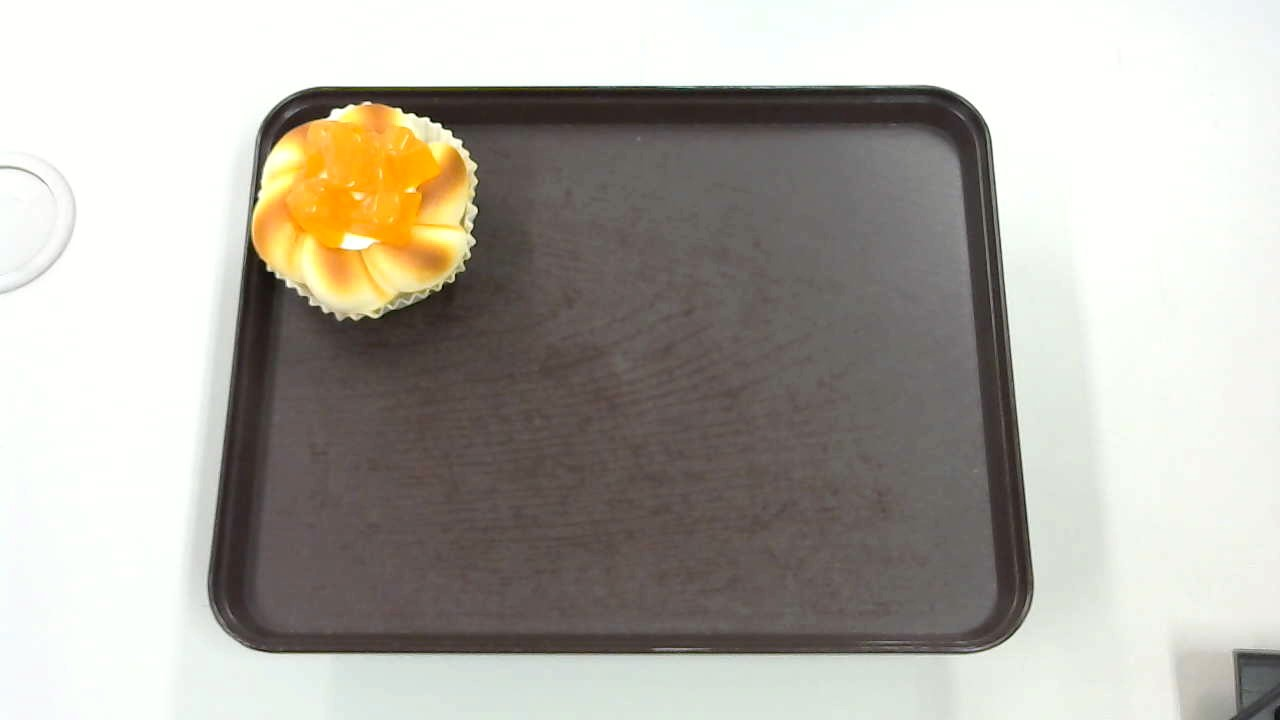mango tart: (248, 99, 477, 320)
